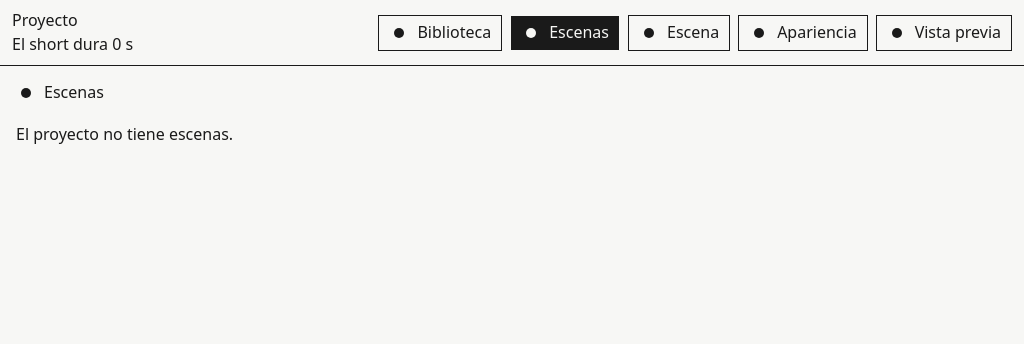
sin escena elegida, el cuadro no tiene nada que mostrar
Click the button "Escena". click: [679, 33]
box: [628,15,730,51]
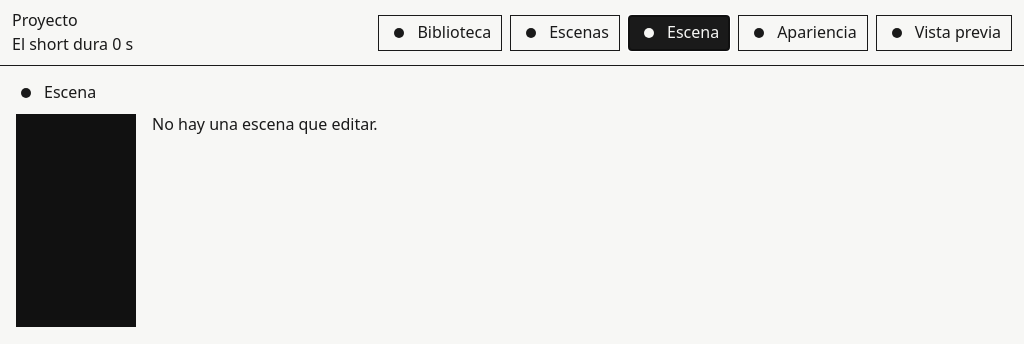
Now the text "No hay una escena que editar." is shown, box [152,114,378,135]
Now the element named "Cuadro" is empty, box [16,114,136,327]
